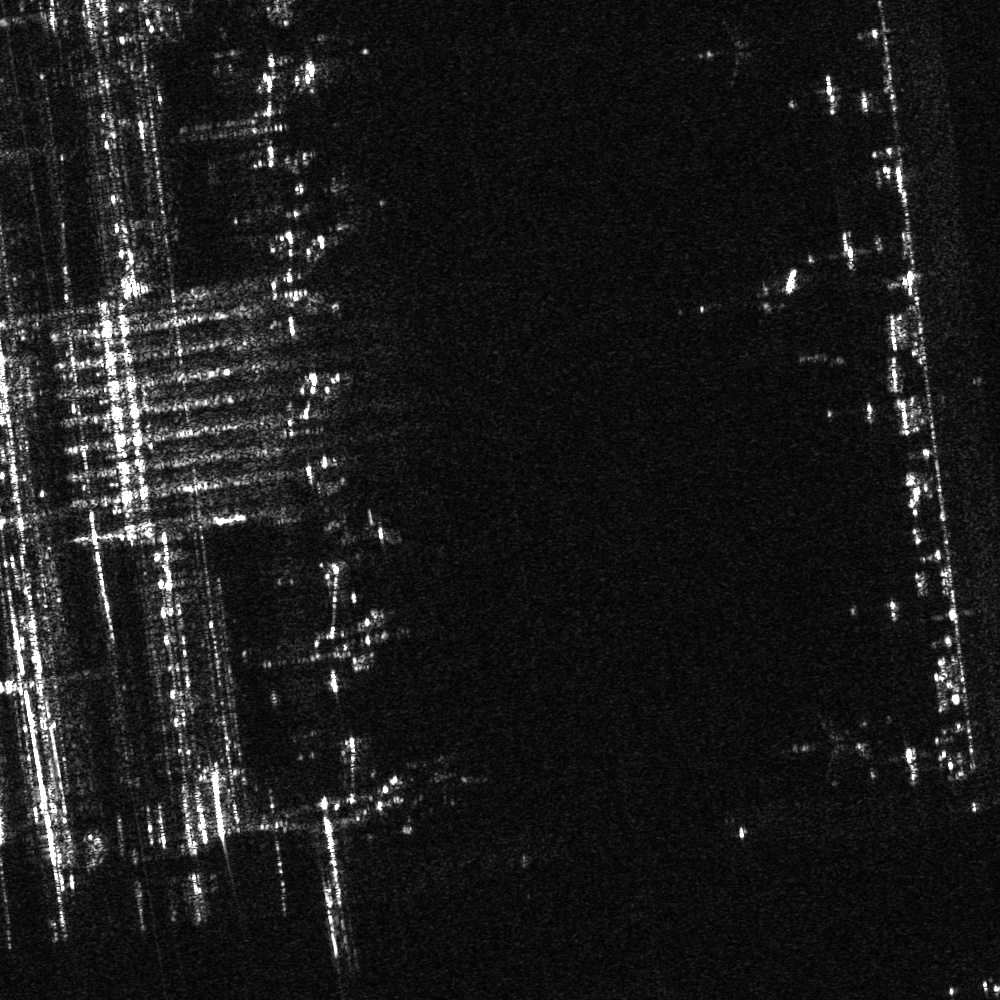Boeing737: (688, 16, 763, 92), (402, 750, 467, 808)
Boeing787: (786, 709, 858, 785)
